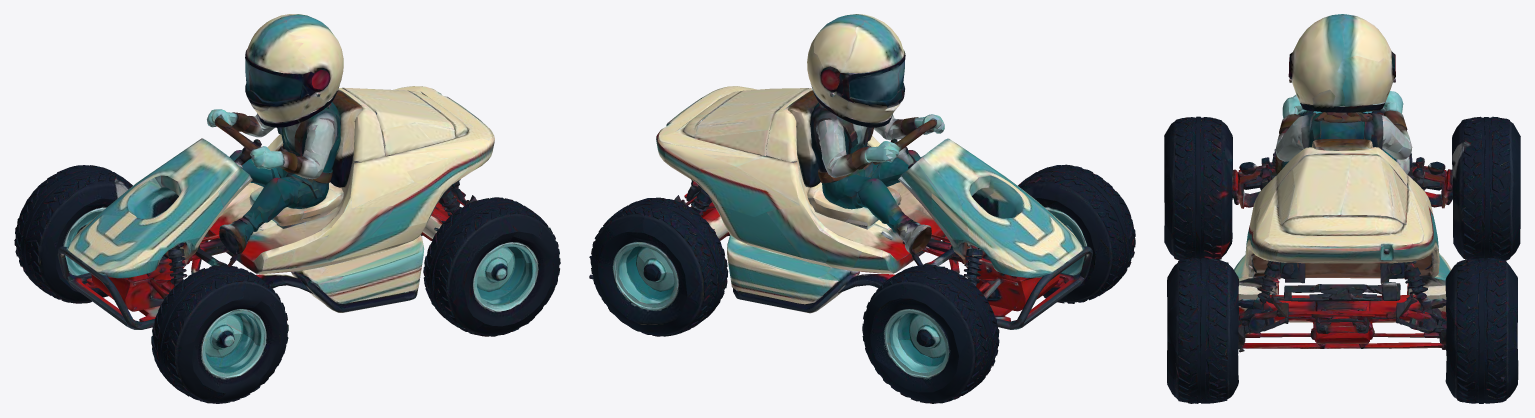
The model's file is rivalKart.5d7073be.glb.
The picture shows the model from 3 angles, left to right: view 1: azimuth 30°, elevation 25°; view 2: azimuth 150°, elevation 25°; view 3: azimuth 270°, elevation 25°; orthographic projection. The views are drawn at different scales.
Visible parts, largest first — view 1: chassis_body, wheel_fr, wheel_rr, wheel_rl; view 2: chassis_body, wheel_fl, wheel_rl, wheel_rr; view 3: chassis_body, wheel_rr, wheel_rl, wheel_fl, wheel_fr.
Boxes of the visible parts, x1,y1,x2,y2 form: chassis_body: [14, 14, 560, 403]; wheel_fr: [388, 219, 519, 336]; wheel_rr: [205, 281, 288, 403]; wheel_rl: [71, 178, 132, 303]; chassis_body: [589, 14, 1135, 403]; wheel_fl: [632, 217, 763, 336]; wheel_rl: [862, 271, 945, 403]; wheel_rr: [1018, 180, 1078, 303]; chassis_body: [1164, 14, 1520, 403]; wheel_rr: [1164, 145, 1251, 260]; wheel_rl: [1432, 155, 1520, 260]; wheel_fl: [1431, 263, 1518, 379]; wheel_fr: [1167, 262, 1253, 381].
Size of the model in its own units: 1.9 by 1.32 by 1.38.
Materials: 1 (1 with a texture image).
